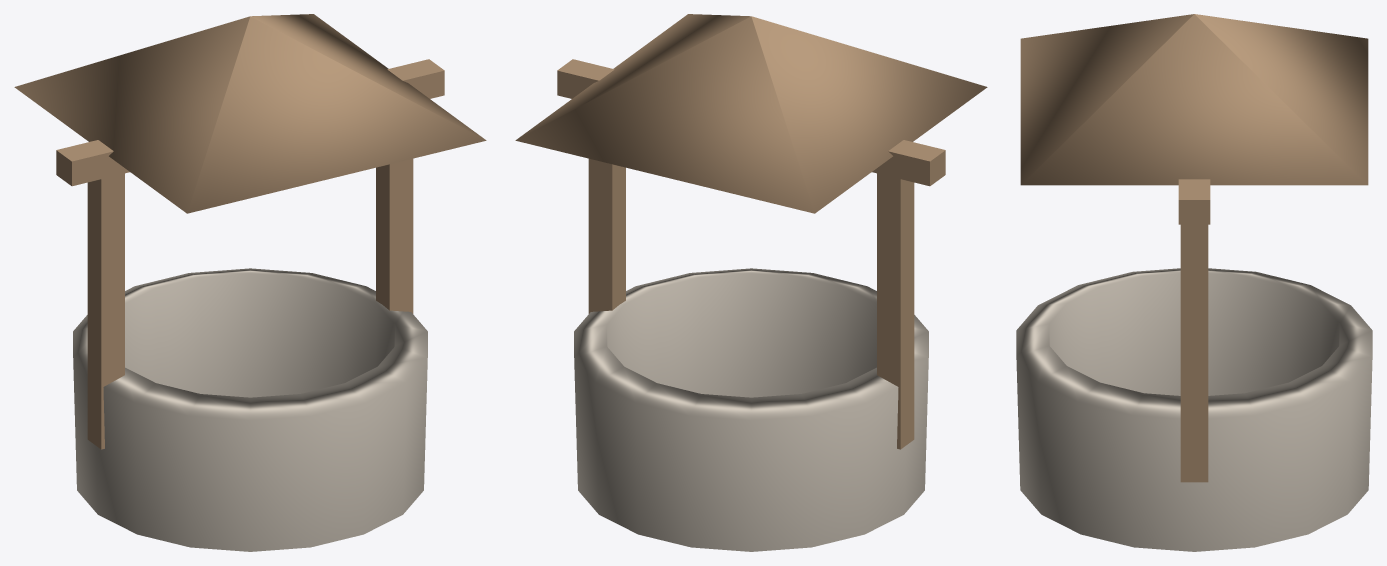
File: Well.glb
The picture shows the model from 3 angles, left to right: view 1: azimuth 30°, elevation 25°; view 2: azimuth 150°, elevation 25°; view 3: azimuth 270°, elevation 25°; orthographic projection.
Parts seen in each view (by area): view 1: Well; view 2: Well; view 3: Well.
Part boxes in pixels (x1,y1,x2,y2): Well: (14,14,486,551); Well: (515,14,987,551); Well: (1016,14,1372,551).
Bounding box in the file's own units: 2.2 × 2.6 × 1.81.
